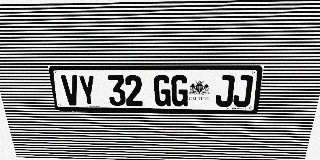2: (124, 75, 142, 106)
3: (107, 75, 126, 106)
G: (171, 75, 189, 106), (154, 75, 171, 106)
J: (232, 75, 253, 107), (215, 75, 235, 107)
V: (61, 75, 81, 105)
Y: (77, 75, 97, 106)
